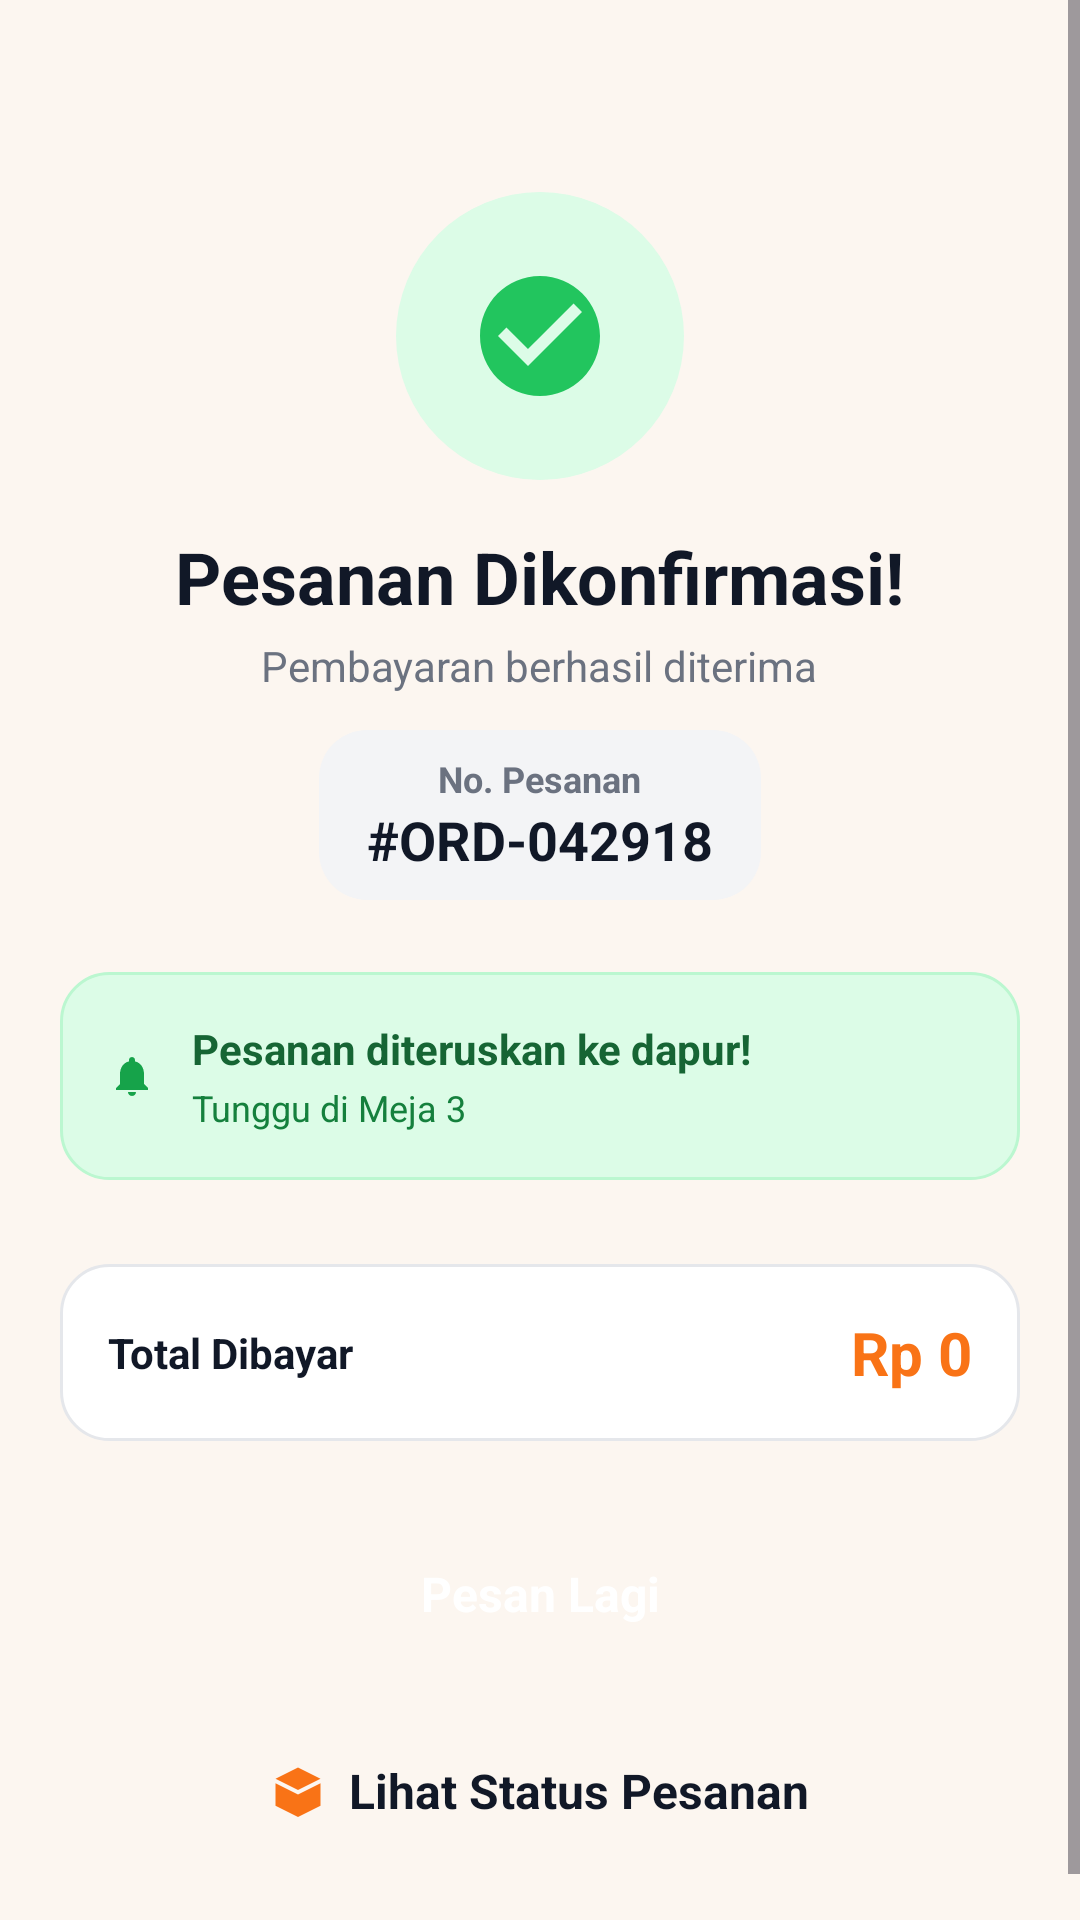

Screen size 1080px x 1920px. Icon name, then its box in pixels as (x1=x1, y1=y1, x2=x2, y2=y2):
bell: (x1=116, y1=1057, x2=148, y2=1096)
check circle: (x1=480, y1=276, x2=600, y2=396)
package: (x1=275, y1=1767, x2=321, y2=1817)
